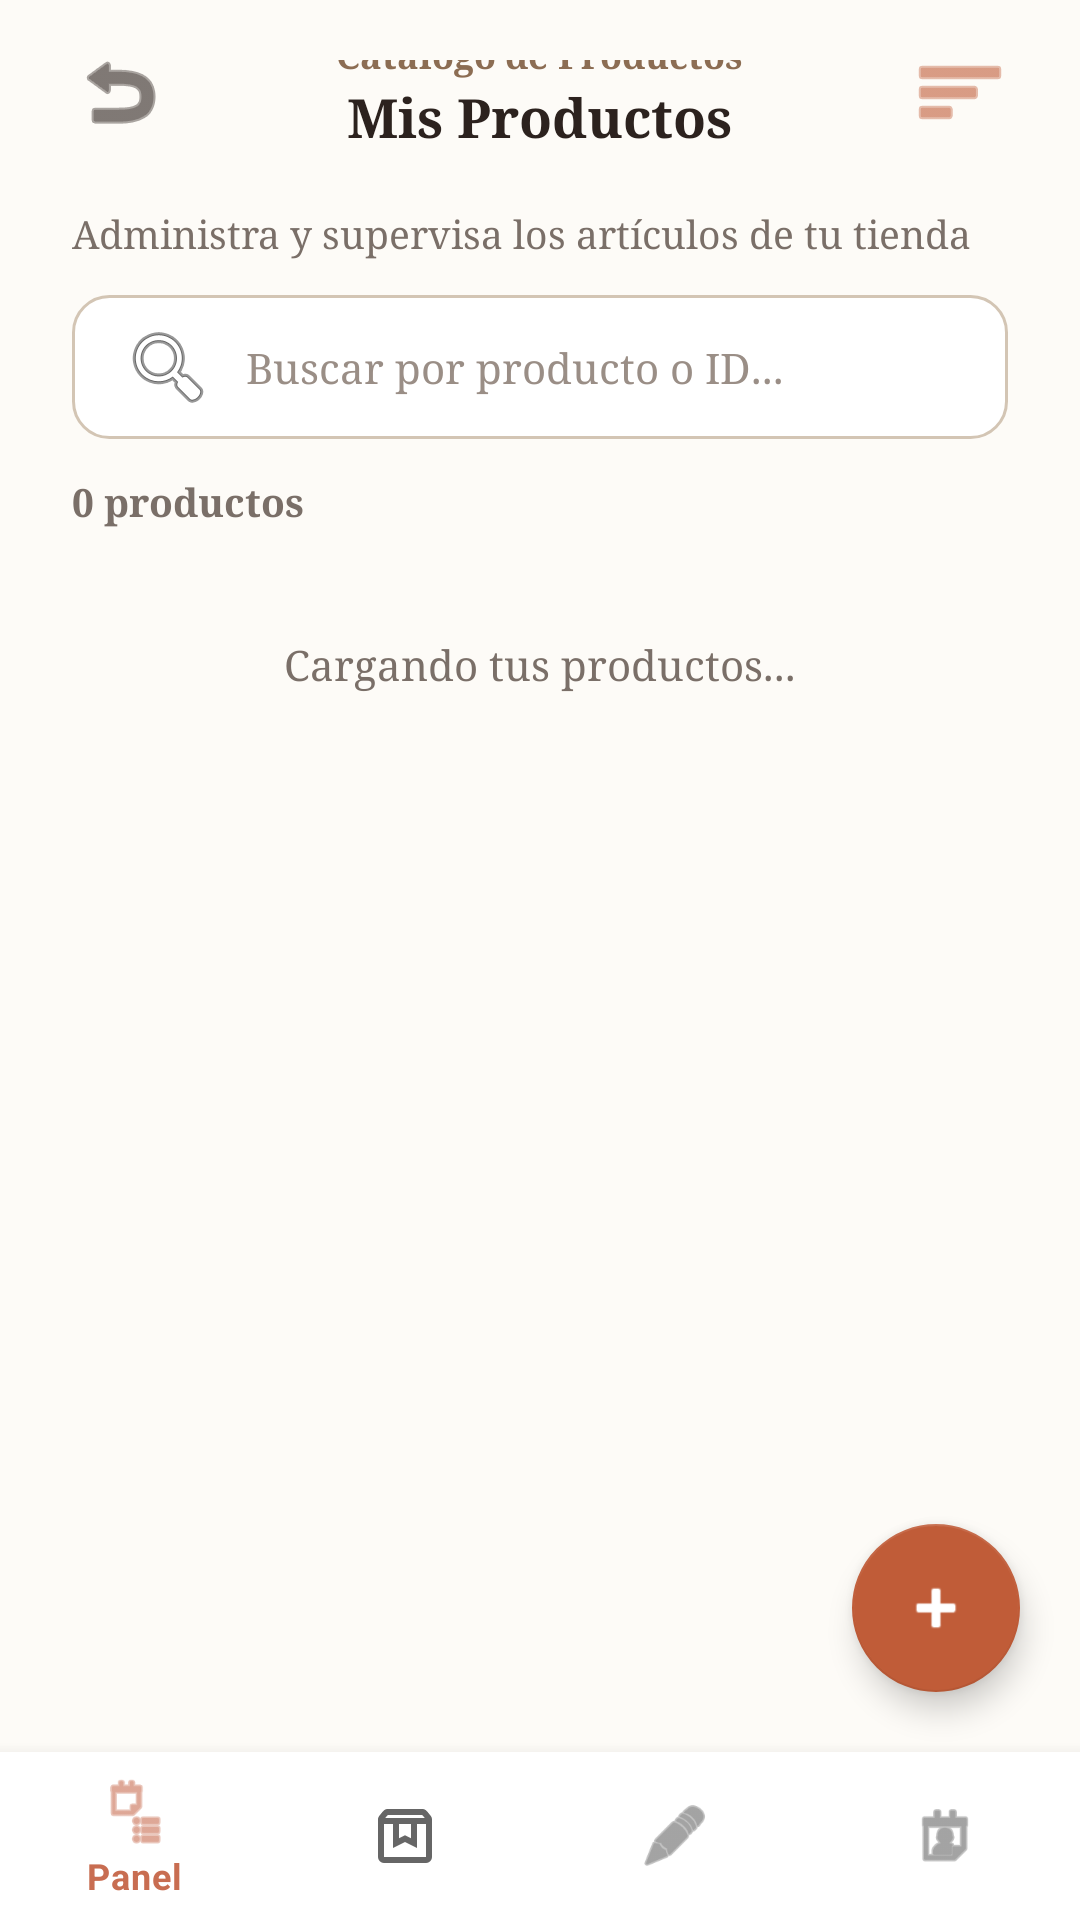

Icons on this 1080 x 1920 Android screen, each with the point to tap as (x,y):
Crear producto: (936,1608)
Volver al inicio: (121,92)
